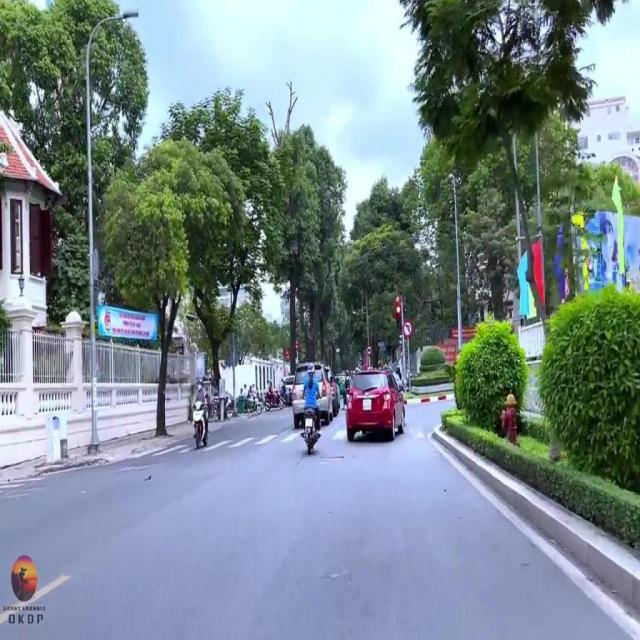cam_o_to_tai: (367, 346, 372, 355)
cam_re_trai: (403, 320, 413, 338)
